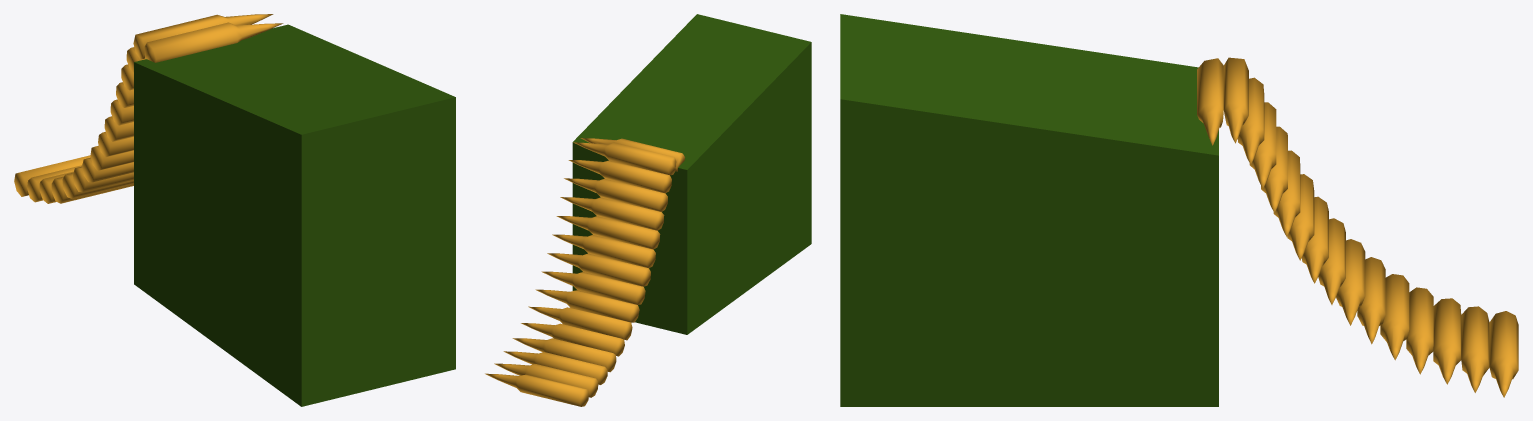
Rendered from MachinegunAmmo.fbx.
The picture shows the model from 3 angles, left to right: view 1: azimuth 30°, elevation 25°; view 2: azimuth 150°, elevation 25°; view 3: azimuth 270°, elevation 25°; orthographic projection. The views are drawn at different scales.
Visible parts, largest first — view 1: Cube.048, Cylinder.089; view 2: Cube.048, Cylinder.089; view 3: Cube.048, Cylinder.089.
Boxes of the visible parts, left/top/right/bottom form: Cube.048: left=134, top=24, right=455, bottom=406; Cylinder.089: left=14, top=14, right=283, bottom=203; Cube.048: left=572, top=14, right=811, bottom=334; Cylinder.089: left=485, top=138, right=684, bottom=406; Cube.048: left=840, top=14, right=1218, bottom=406; Cylinder.089: left=1197, top=57, right=1518, bottom=397.
Size of the model in its own units: 530 by 917 by 1785.
